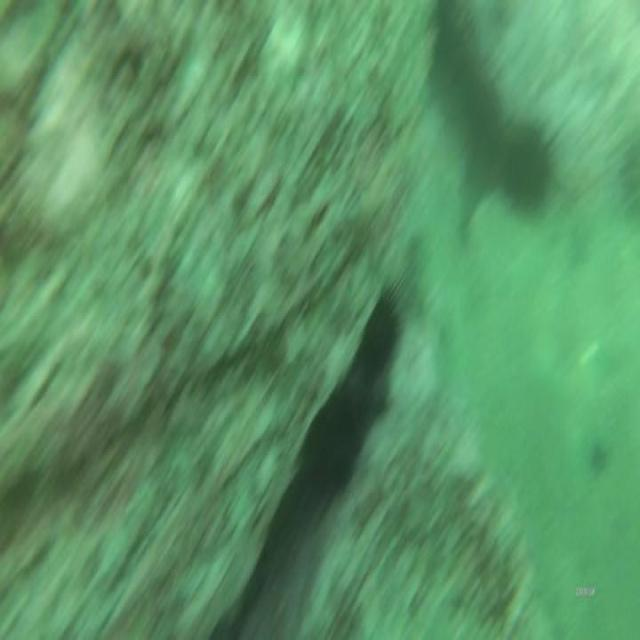echinus: (307, 373, 369, 496), (501, 110, 555, 217), (360, 281, 401, 386)
